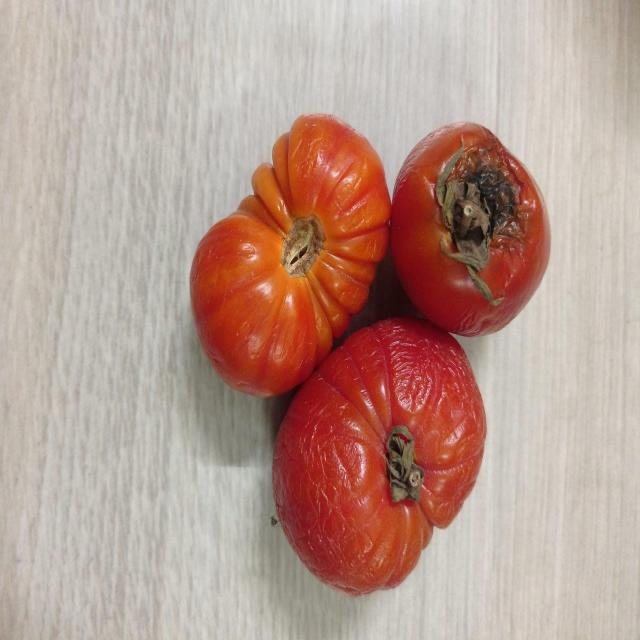Rotten: (388, 116, 553, 337)
